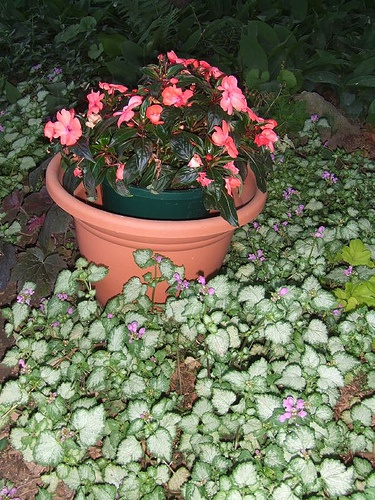flowerpot: (46, 144, 266, 305)
